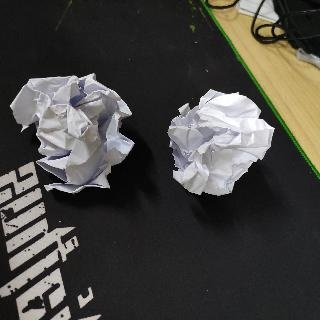8/可回收垃圾/纸: (10, 72, 135, 195), (169, 89, 275, 197)
